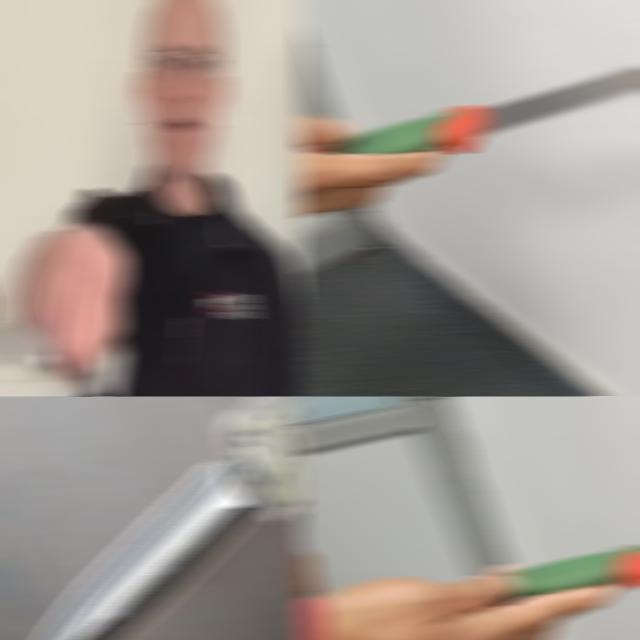Knife: (496, 544, 640, 604)
Knife_Handle: (2, 396, 305, 640), (297, 467, 640, 640), (0, 222, 131, 396)
